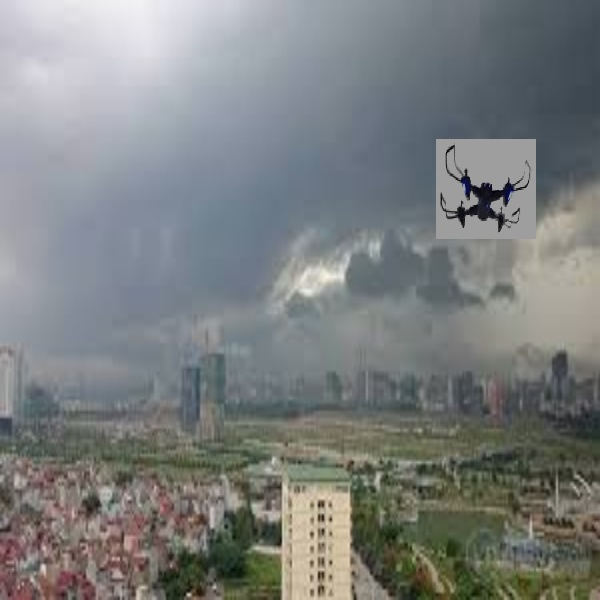drone: (434, 137, 539, 236)
